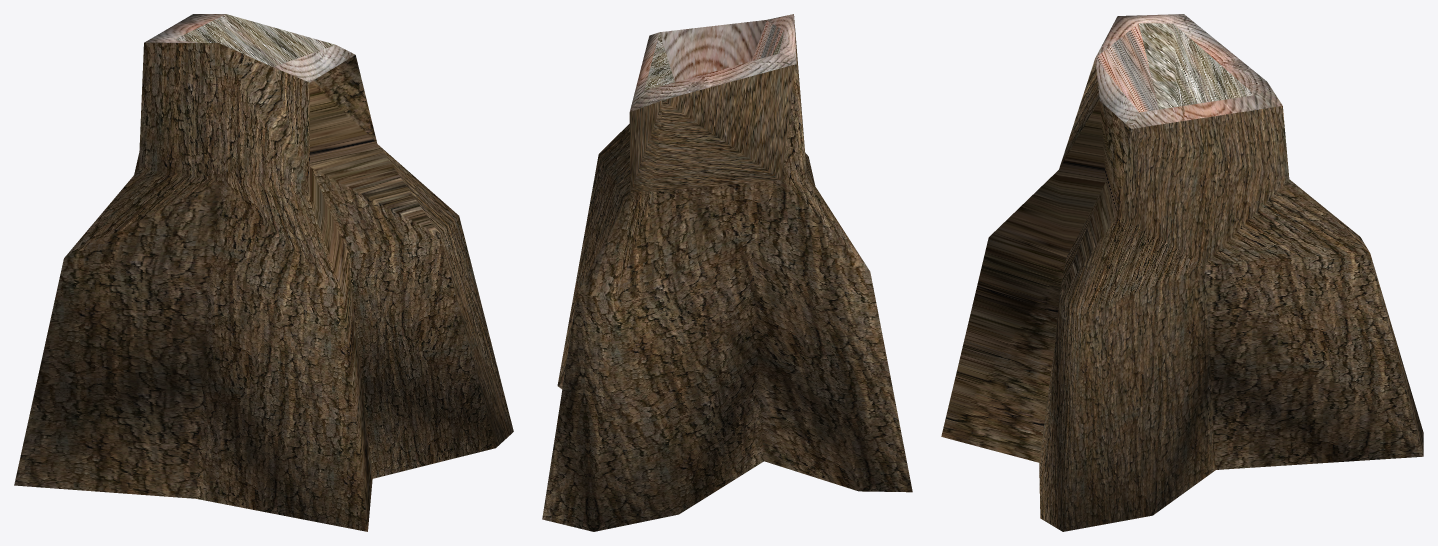
The model's file is decd_oakstump_sm_l2.fbx.
3 views of the same model, side by side, from view 1: azimuth 30°, elevation 25°; view 2: azimuth 150°, elevation 25°; view 3: azimuth 270°, elevation 25° (orthographic). The views are drawn at different scales.
Visible parts, largest first — view 1: mesh_node; view 2: mesh_node; view 3: mesh_node.
Boxes of the visible parts, left/top/right/bottom form: mesh_node: left=14, top=14, right=513, bottom=531; mesh_node: left=542, top=14, right=912, bottom=531; mesh_node: left=941, top=14, right=1423, bottom=531.
Size of the model in its own units: 2.57 by 2.46 by 2.71.
